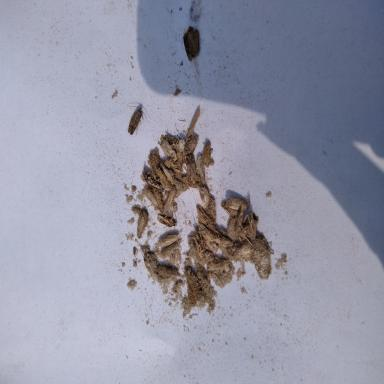pbw: (198, 223, 218, 250), (161, 164, 179, 183), (164, 184, 176, 212), (196, 204, 212, 224), (225, 198, 249, 211), (136, 211, 148, 237), (160, 139, 176, 158), (246, 212, 256, 239), (192, 234, 203, 258), (185, 134, 198, 154), (157, 234, 178, 246), (157, 215, 177, 227), (146, 189, 158, 207), (213, 236, 233, 246), (236, 210, 243, 236), (208, 260, 228, 269), (184, 157, 192, 178), (147, 176, 160, 188), (190, 154, 197, 174), (173, 168, 181, 178)
